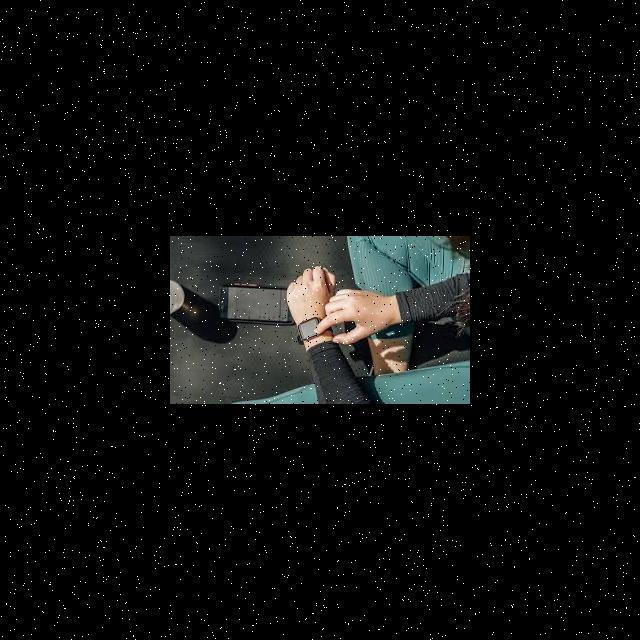smart phone: (204, 272, 310, 342)
watch: (301, 305, 354, 357)
